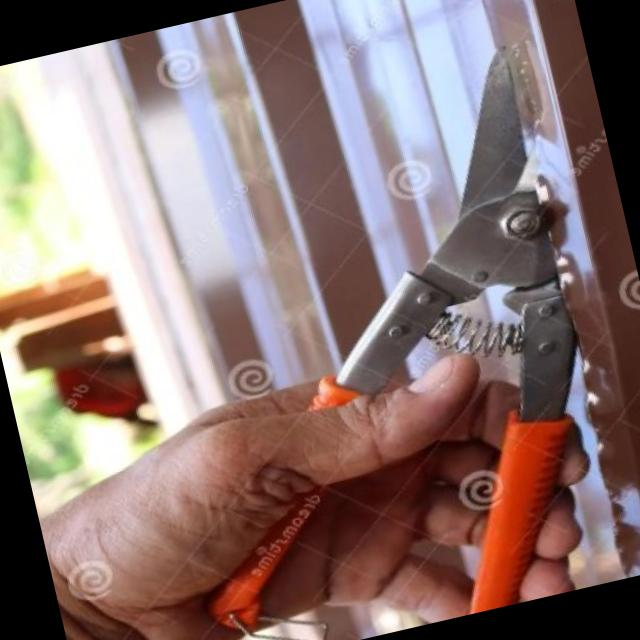not-gloved: (20, 321, 606, 640)
